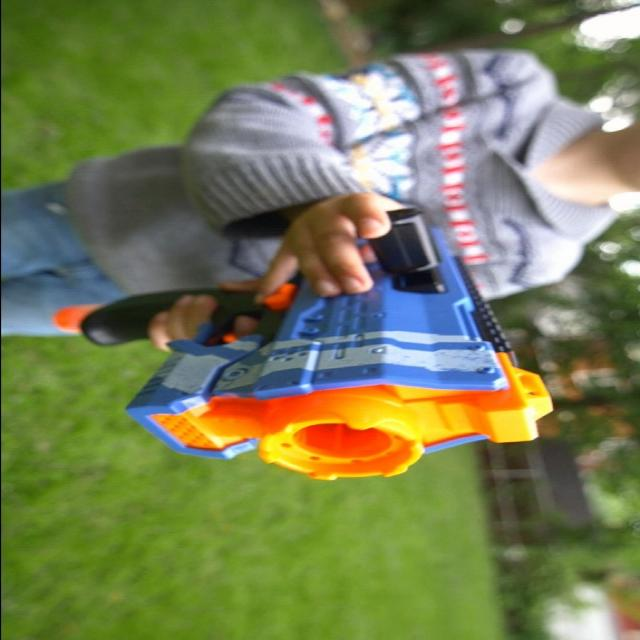Nerf gun: (33, 196, 553, 485)
